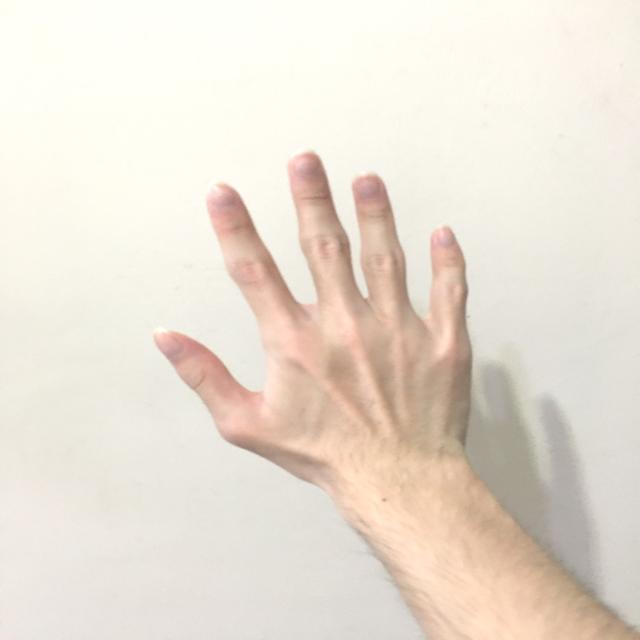no_glove: (143, 136, 485, 512)
